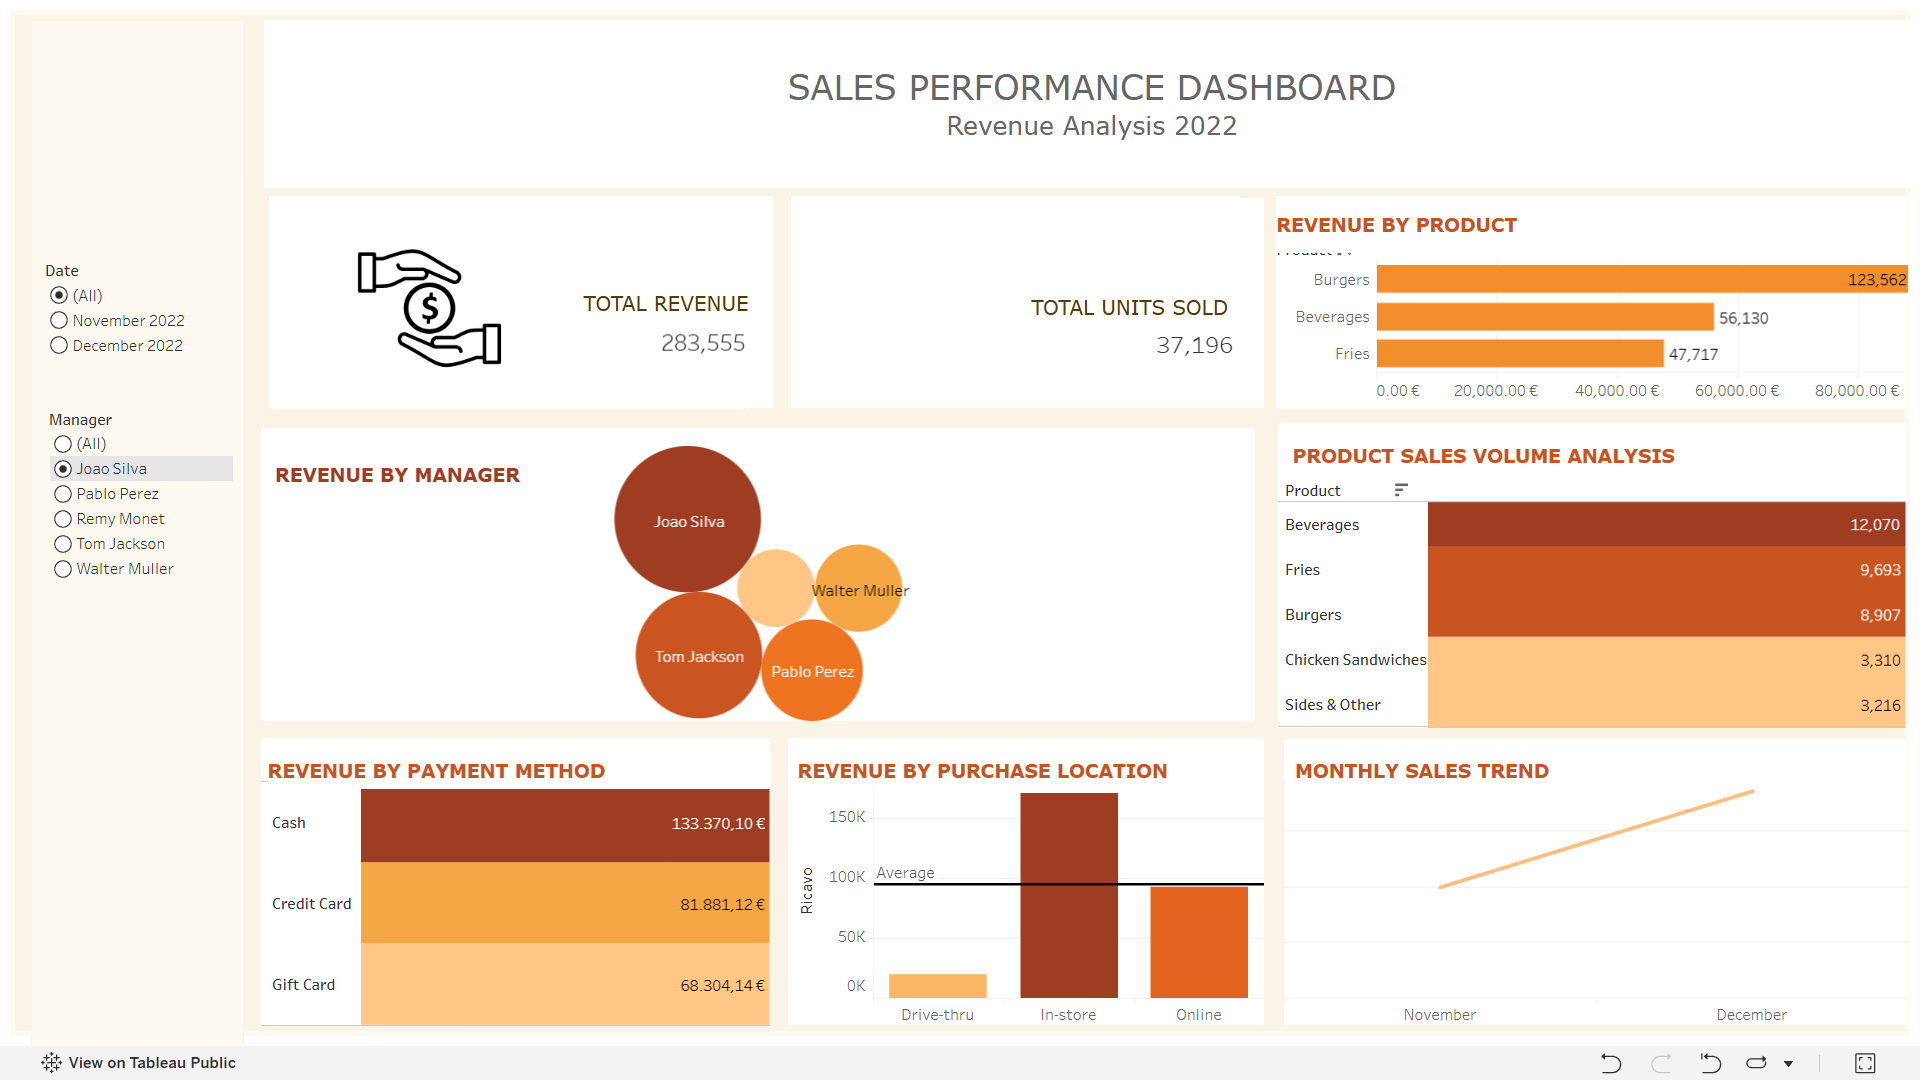

The page's visual inventory and layout, read from the dashboard file:
{"tool":"tableau","page":{"name":"Dashboard 1","canvas":[1000,1000],"units":"permille","ordinal":0},"visuals":[{"type":"text","box":[137.6,18.6,862.4,160.3]},{"type":"filter","title":"Foglio 5","param":"[federated.1ny8mnk1bhrd511dmi80e0a20nie].[Action (YEAR(Date),MONTH(Date))]","box":[387.4,104.5,96.6,112.7]},{"type":"filter","title":"Foglio 5","param":"[federated.1ny8mnk1bhrd511dmi80e0a20nie].[none:Manager2:nk]","box":[396.5,122,96.6,192.8]},{"type":"text","box":[140,188.2,249.8,202.1]},{"type":"blank","box":[382,188.2,20.5,200.9]},{"type":"text","box":[664.5,188.2,328.9,53.4]},{"type":"text","box":[412.2,189.3,233,200.9]},{"type":"blank","box":[634.9,189.3,23.5,199.8]},{"type":"image","param":"C:/Users/feder/Downloads/—Pngtree—vector money saving icon_4186932.png","box":[134.6,200.9,178,187]},{"type":"worksheet","title":"Foglio 2","mark":"Automatic","rows":["Product"],"cols":["Ricavo"],"box":[664.5,206.7,328.9,183.5]},{"type":"filter","title":"Foglio 6","param":"[federated.1ny8mnk1bhrd511dmi80e0a20nie].[my:Date:ok]","box":[23.5,247.4,96.6,112.7]},{"type":"filter","title":"Foglio 2","param":"[federated.1ny8mnk1bhrd511dmi80e0a20nie].[none:Manager2:nk]","box":[25.4,389.1,96.6,192.8]},{"type":"text","box":[143,396.1,176.2,115]},{"type":"worksheet","title":"Foglio 3","mark":"Square","rows":["Product"],"box":[665.7,404.2,327.1,291.5]},{"type":"worksheet","title":"Foglio 1","mark":"Circle","box":[136.4,408.8,517.2,281.1]},{"type":"text","box":[672.9,418.1,245,34.8]},{"type":"worksheet","title":"Foglio 6","mark":"Square","rows":["Payment Method"],"box":[136.4,705,264.3,276.4]},{"type":"worksheet","title":"Foglio 6 (2)","mark":"Bar","rows":["Ricavo"],"cols":["Purchase Type"],"box":[410.4,705,248,283.4]},{"type":"worksheet","title":"Foglio 5","mark":"Automatic","rows":["Ricavo"],"cols":["Date"],"box":[668.7,705,324.7,173.1]},{"type":"text","box":[678.3,706.2,205.8,34.8]},{"type":"text","box":[139.4,718.9,262.5,34.8]},{"type":"text","box":[415.2,718.9,233.6,34.8]},{"type":"worksheet","title":"Foglio 8","mark":"Automatic","rows":["Order ID","Manager2"],"box":[666.3,873.4,327.1,112.7]},{"type":"text","box":[858.2,885,133.4,25.6]}]}

Visuals, with their boxes on the dashboard's canvas, which has no fixed pixel size, in thousandths of its width and height (x1, y1, x2, y2). These are canvas units, not pixel positions in the 1920x1080 screenshot, which may show the page scaled, cropped or inside an application window:
text: x1=138 y1=19 x2=1000 y2=179
"Foglio 5" filter: x1=387 y1=104 x2=484 y2=217
"Foglio 5" filter: x1=396 y1=122 x2=493 y2=315
text: x1=140 y1=188 x2=390 y2=390
blank: x1=382 y1=188 x2=402 y2=389
text: x1=664 y1=188 x2=993 y2=242
text: x1=412 y1=189 x2=645 y2=390
blank: x1=635 y1=189 x2=658 y2=389
image: x1=135 y1=201 x2=313 y2=388
"Foglio 2" worksheet: x1=664 y1=207 x2=993 y2=390
"Foglio 6" filter: x1=24 y1=247 x2=120 y2=360
"Foglio 2" filter: x1=25 y1=389 x2=122 y2=582
text: x1=143 y1=396 x2=319 y2=511
"Foglio 3" worksheet (Square marks): x1=666 y1=404 x2=993 y2=696
"Foglio 1" worksheet (Circle marks): x1=136 y1=409 x2=654 y2=690
text: x1=673 y1=418 x2=918 y2=453
"Foglio 6" worksheet (Square marks): x1=136 y1=705 x2=401 y2=981
"Foglio 6 (2)" worksheet (Bar marks): x1=410 y1=705 x2=658 y2=988
"Foglio 5" worksheet: x1=669 y1=705 x2=993 y2=878
text: x1=678 y1=706 x2=884 y2=741
text: x1=139 y1=719 x2=402 y2=754
text: x1=415 y1=719 x2=649 y2=754
"Foglio 8" worksheet: x1=666 y1=873 x2=993 y2=986
text: x1=858 y1=885 x2=992 y2=911
